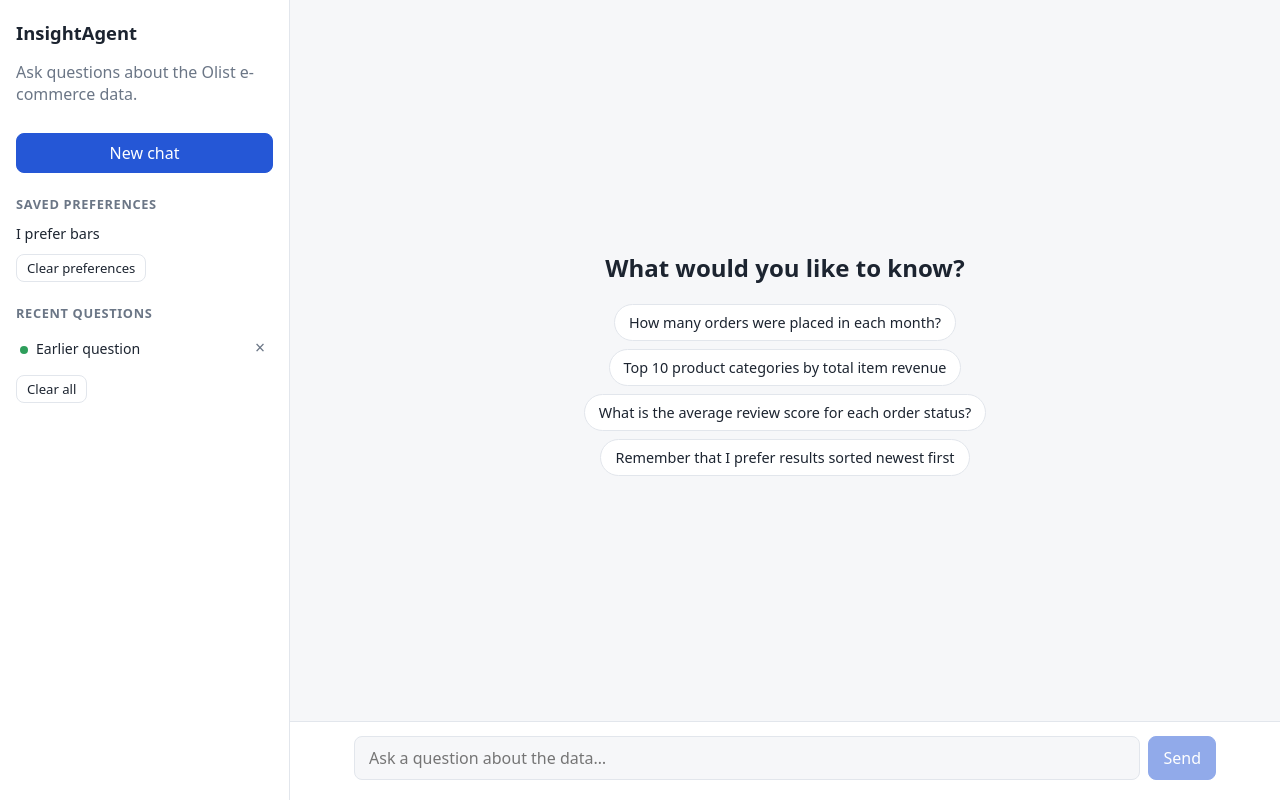
App › asks for approval, locks the input, and resumes after "Run it"
Type "big join" into the field labelled "question". click: (747, 758)
box: [354,736,1140,780]
Then press Enter
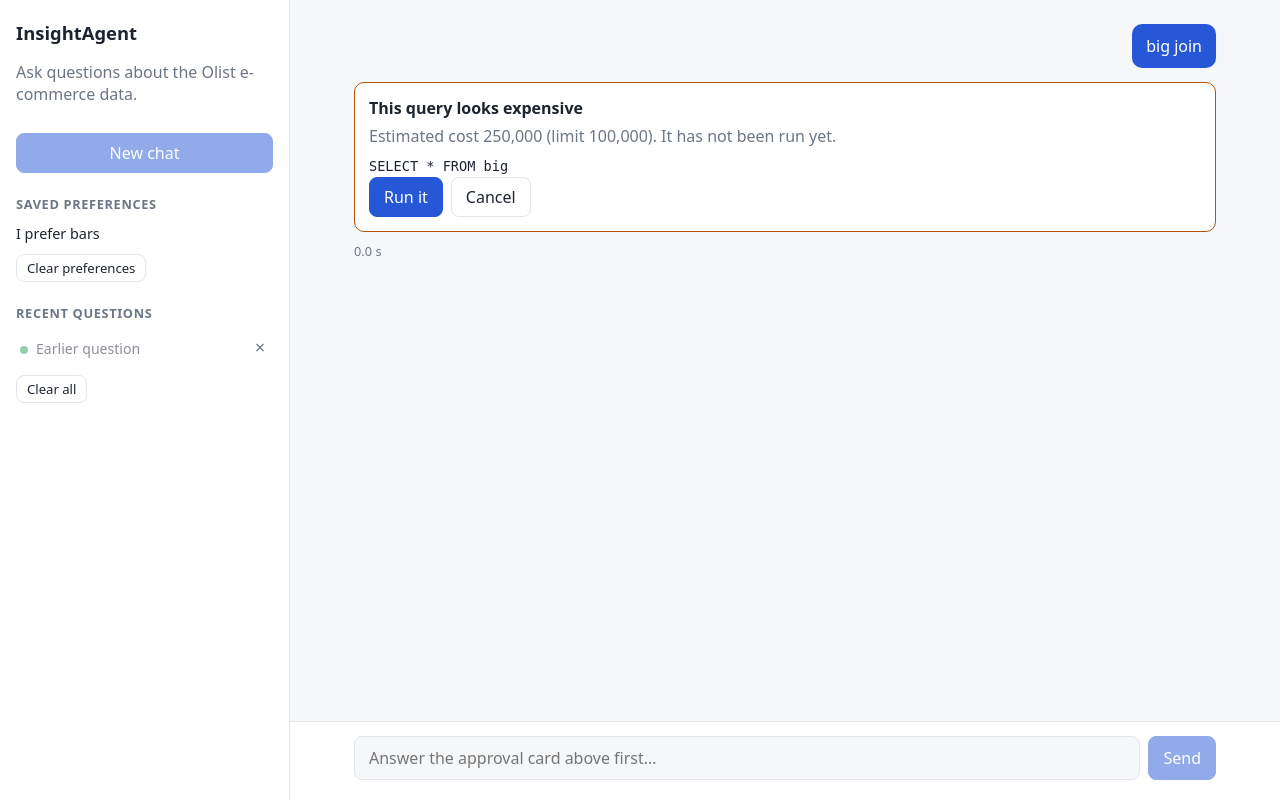
Check: the text "This query looks expensive" is shown, box [369,97,583,119]
Check: the field named "Question" is disabled, box [354,736,1140,780]
Click the button "Run it". click: (406, 197)
box: [369,177,443,217]
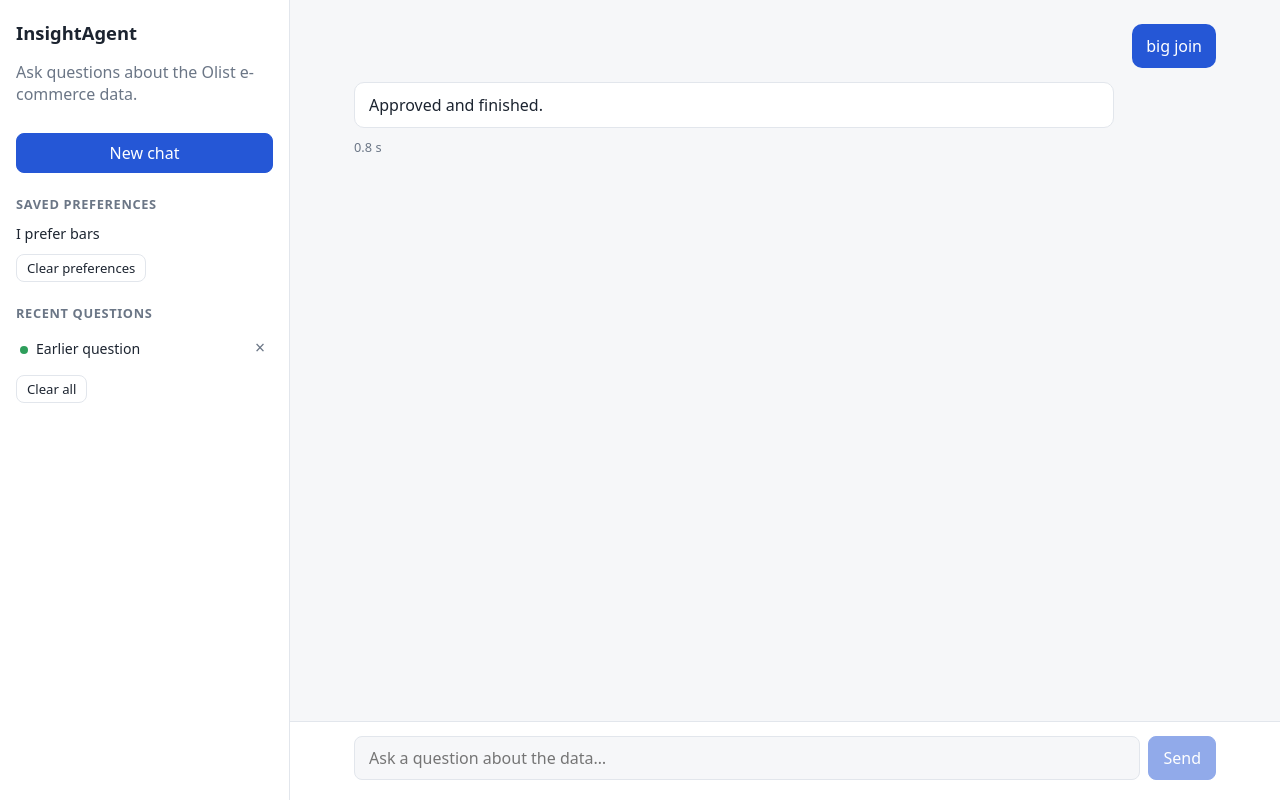
Check: the text "Approved and finished." is shown, box [354,82,1114,128]
Check: the message is gone
Check: the field labelled "question" is enabled, box [354,736,1140,780]
